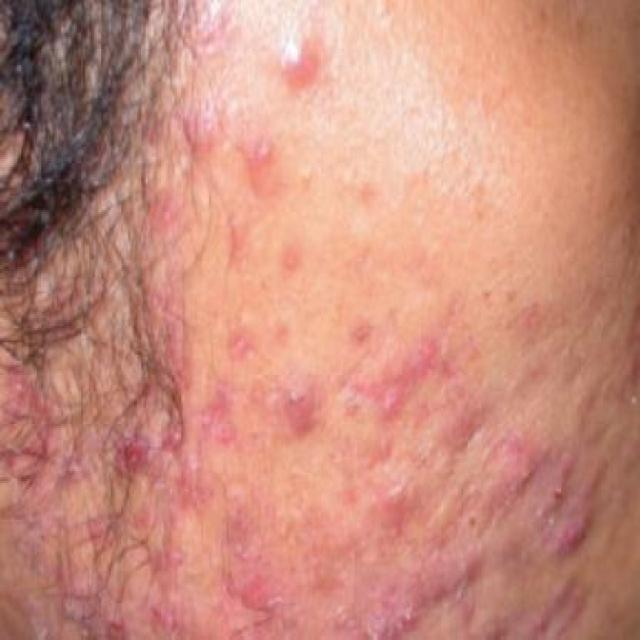Acne: (534, 442, 615, 579), (275, 358, 340, 452), (263, 26, 339, 100), (271, 222, 315, 288), (343, 306, 385, 356)
